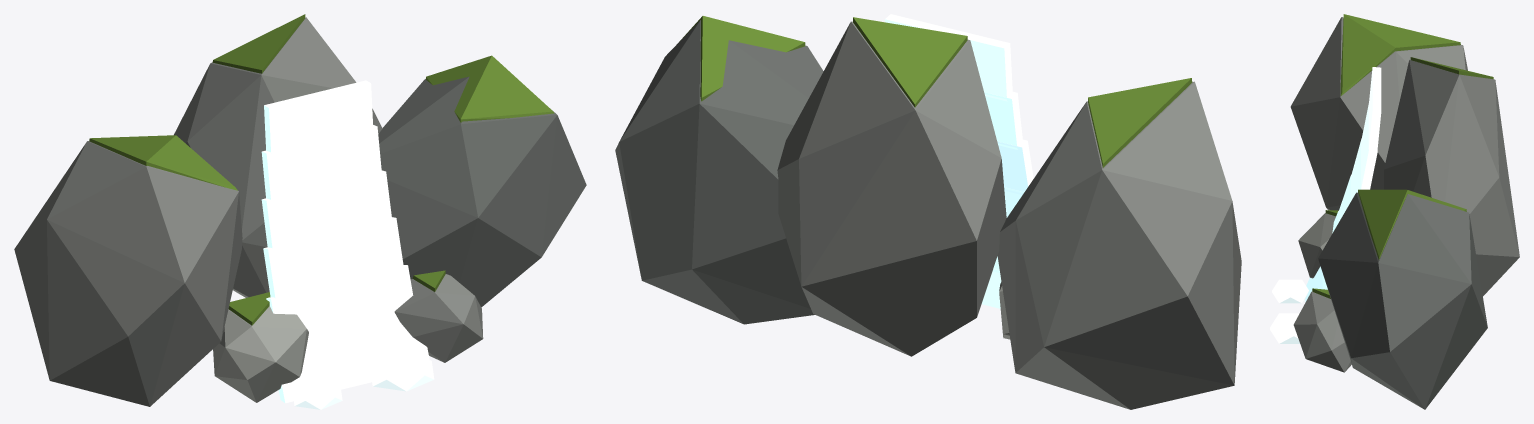
Rendered from forest_waterfall.glb.
3 views of the same model, side by side, from view 1: azimuth 30°, elevation 25°; view 2: azimuth 150°, elevation 25°; view 3: azimuth 270°, elevation 25° (orthographic). The views are drawn at different scales.
Visible parts, largest first — view 1: forest_waterfall; view 2: forest_waterfall; view 3: forest_waterfall.
Part boxes in pixels (bbox=[...]): forest_waterfall: bbox=[14, 14, 586, 409]; forest_waterfall: bbox=[615, 14, 1241, 409]; forest_waterfall: bbox=[1270, 14, 1519, 409].
Bounding box in the file's own units: 7.32 × 3.92 × 3.37.
